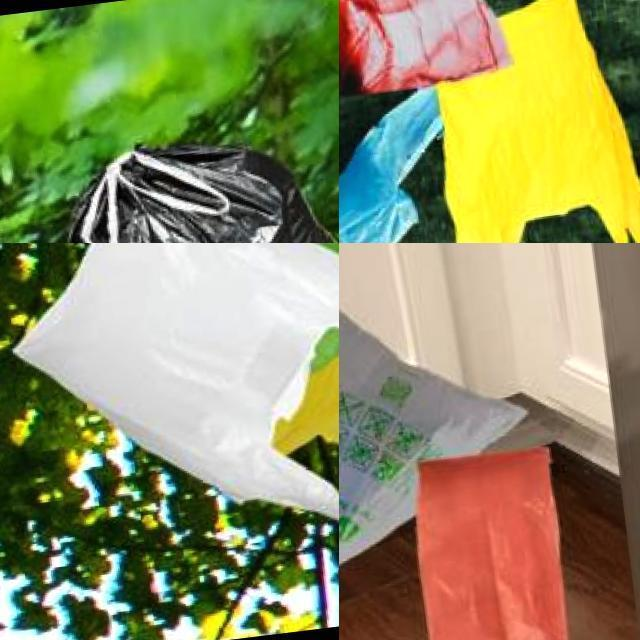waste: (0, 243, 339, 565), (339, 265, 541, 585), (422, 0, 640, 243), (53, 114, 339, 243), (418, 430, 577, 640), (98, 243, 339, 374), (272, 243, 339, 546)
